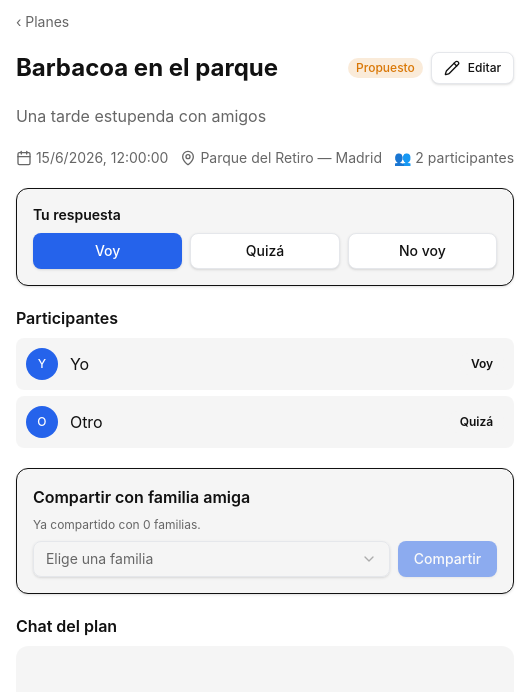
PlanDetailView › abre el formulario de edición con los valores del plan
What coordinates should you click on to do the following:
click the button "Editar"
I would click on:
 (472, 68)
Its box is [431,52,514,84].
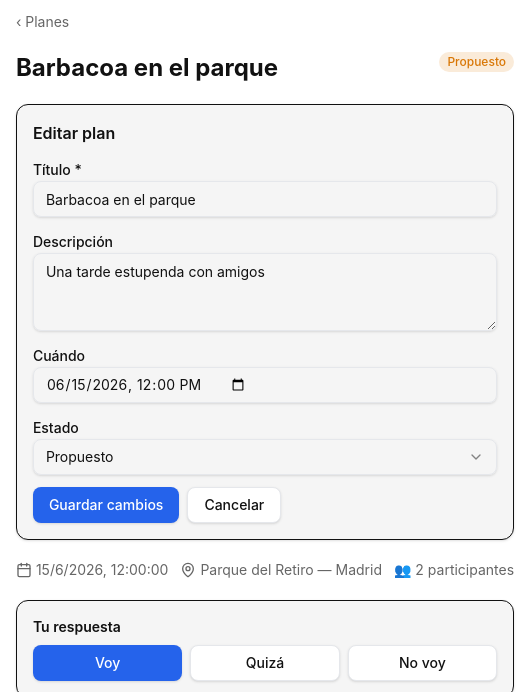
Result: the heading "Editar plan" is shown at [33,123,115,143]
Result: the field labelled "Título *" holds "Barbacoa en el parque" at [33,181,497,217]
